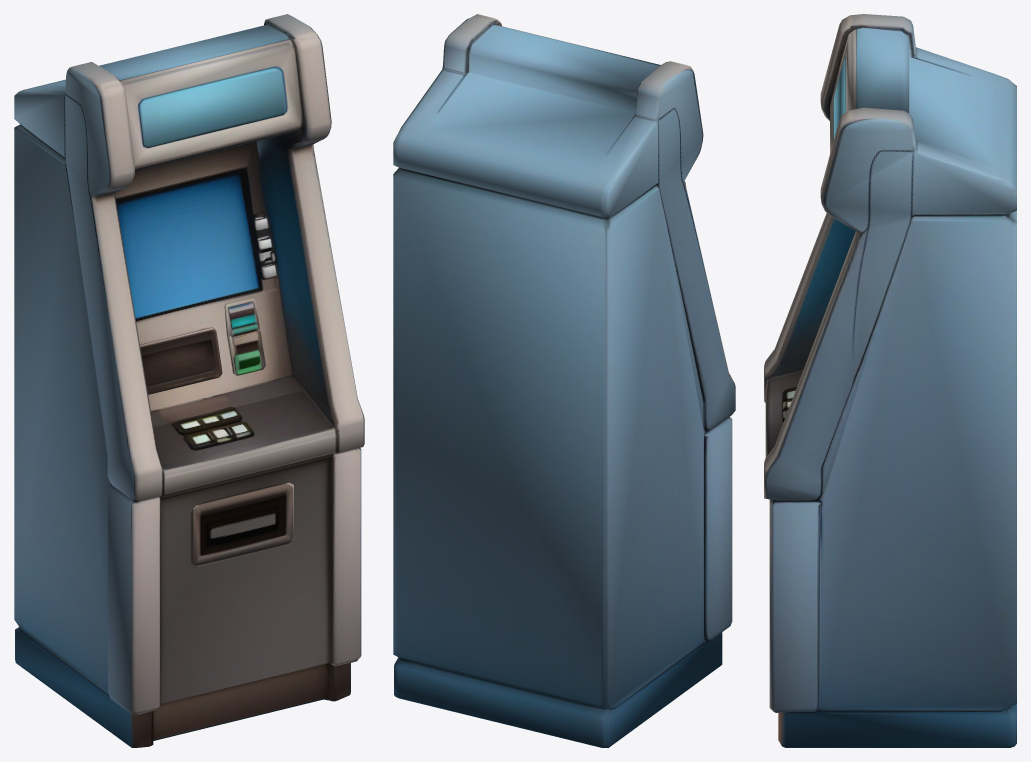
File: Atm1.glb
3 renders of one model, left to right at view 1: azimuth 30°, elevation 25°; view 2: azimuth 150°, elevation 25°; view 3: azimuth 270°, elevation 25°, orthographic. The views are drawn at different scales.
Visible parts, largest first — view 1: Atm1; view 2: Atm1; view 3: Atm1.
Part boxes in pixels (left/top/right/bottom): Atm1: left=14, top=14, right=364, bottom=747; Atm1: left=393, top=14, right=735, bottom=747; Atm1: left=764, top=14, right=1016, bottom=747.
Size of the model in its own units: 0.7127 by 1.9 by 0.6893.
1 material, 1 textured.
